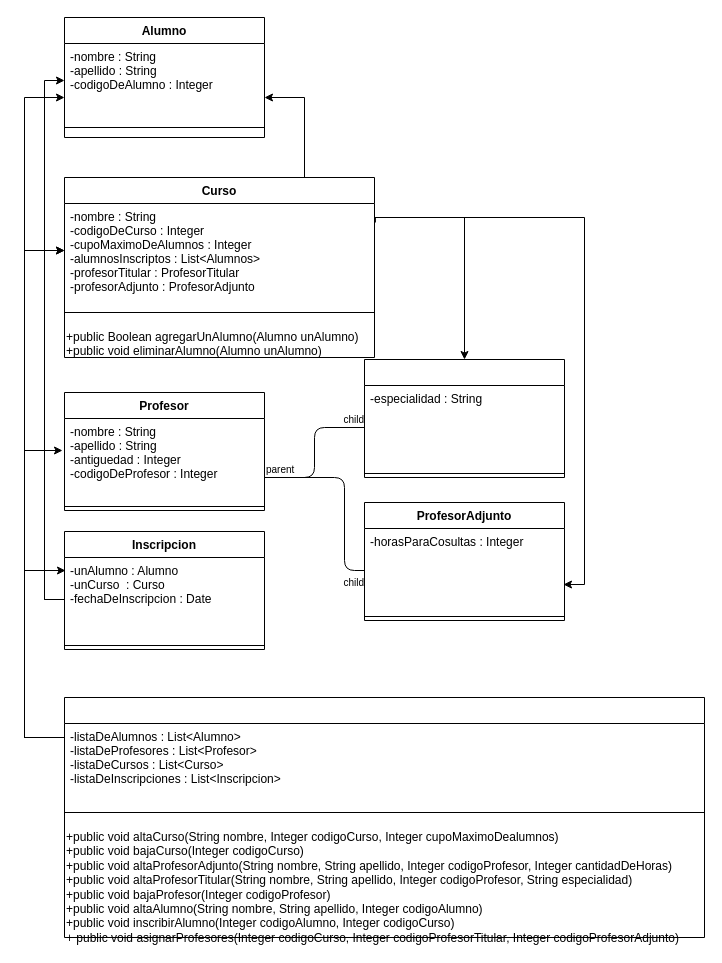
Some shapes in this 722 by 963 pixel diagram are drawn without their labels. Each missing label, with the box of its shape:
DigitalHouseManager: (64, 696, 704, 938)
ProfesorTitular: (364, 358, 564, 478)
